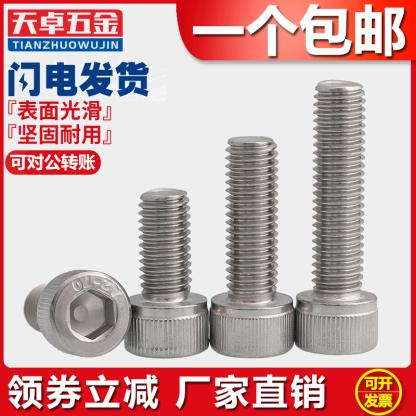FOD: (292, 77, 382, 358), (207, 136, 298, 360), (125, 189, 211, 359), (24, 267, 130, 358)
